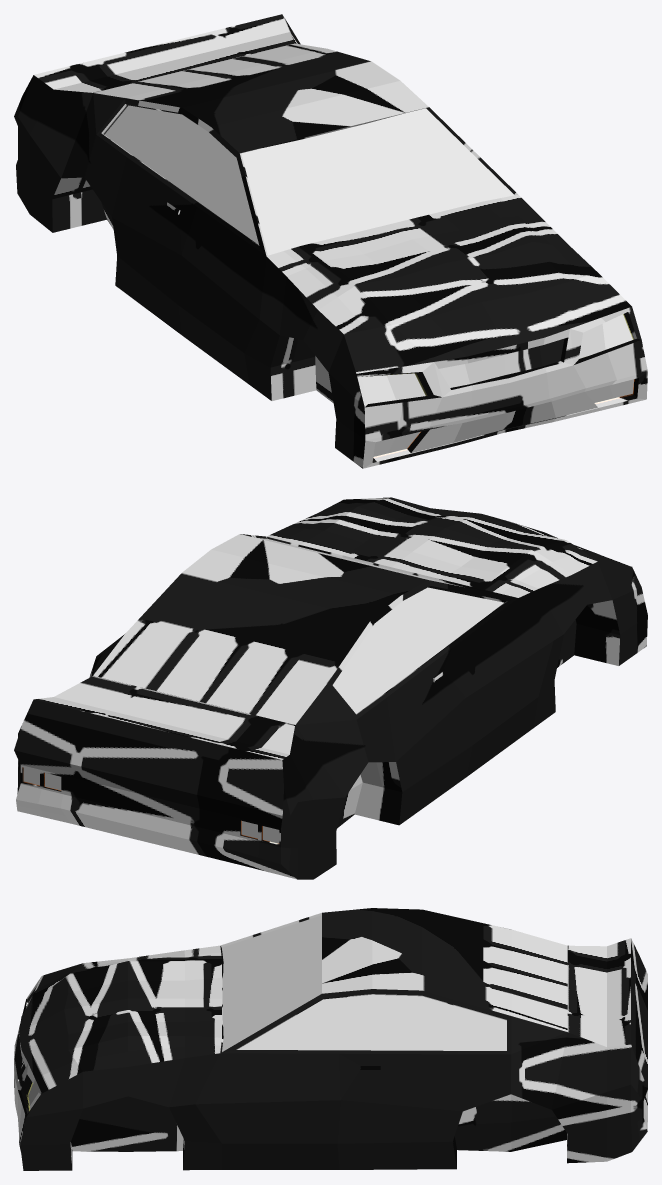
The model's file is car.fbx.
3 views of the same model, one above another, from view 1: azimuth 30°, elevation 25°; view 2: azimuth 150°, elevation 25°; view 3: azimuth 270°, elevation 25° (orthographic). The views are drawn at different scales.
Parts seen in each view (by area): view 1: Cube.001; view 2: Cube.001; view 3: Cube.001.
Boxes of the visible parts, bbox=[...] form: Cube.001: bbox=[14, 14, 647, 468]; Cube.001: bbox=[14, 497, 647, 879]; Cube.001: bbox=[14, 908, 647, 1170].
Size of the model in its own units: 96.82 by 57.97 by 206.
